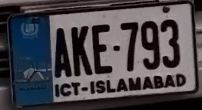AKE793: (3, 2, 201, 110)
